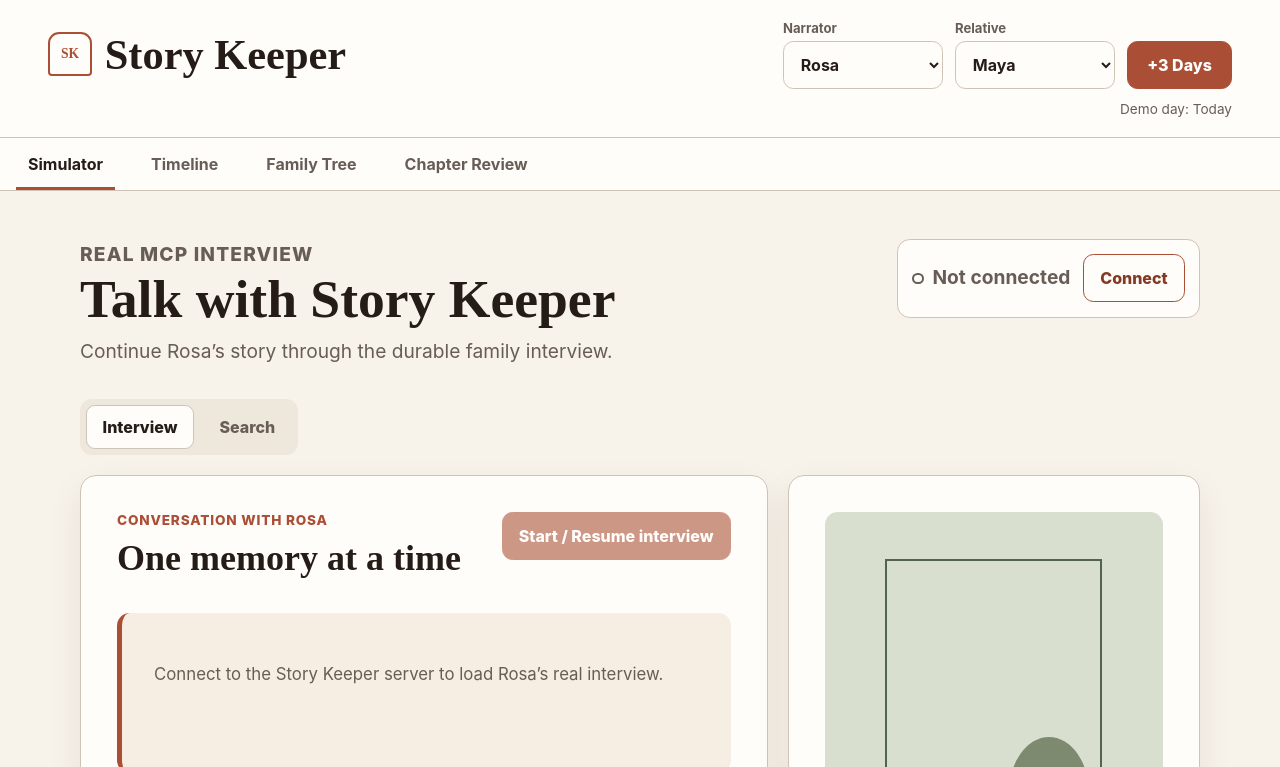
Test case: SimulatorApp › refreshes and explains a stale conflicting resolution without claiming success
Click the button "Connect" at (1134, 278), box [1083,254,1185,302]
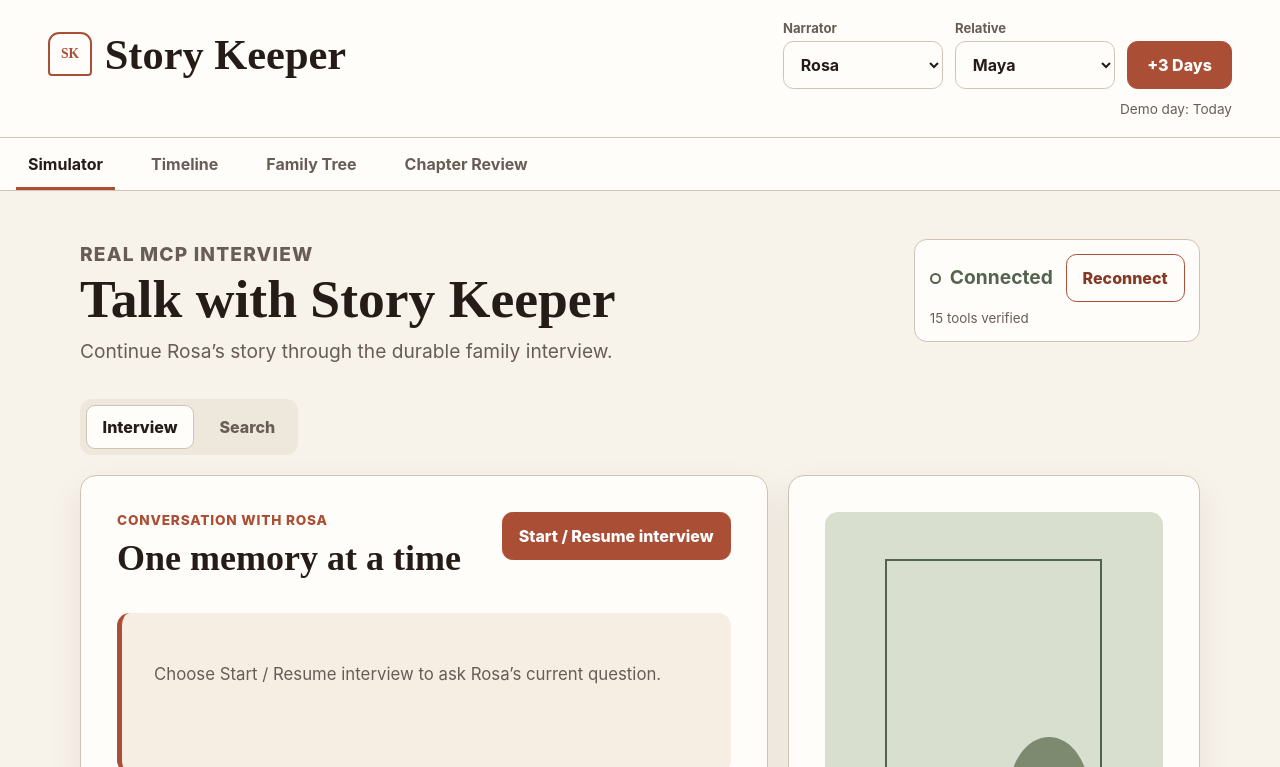
expect the text "15 tools verified" is shown: met, box [930,310,1029,326]
Click the button "Start / Resume interview" at (616, 536), box [502,512,730,560]
(page scrolled)
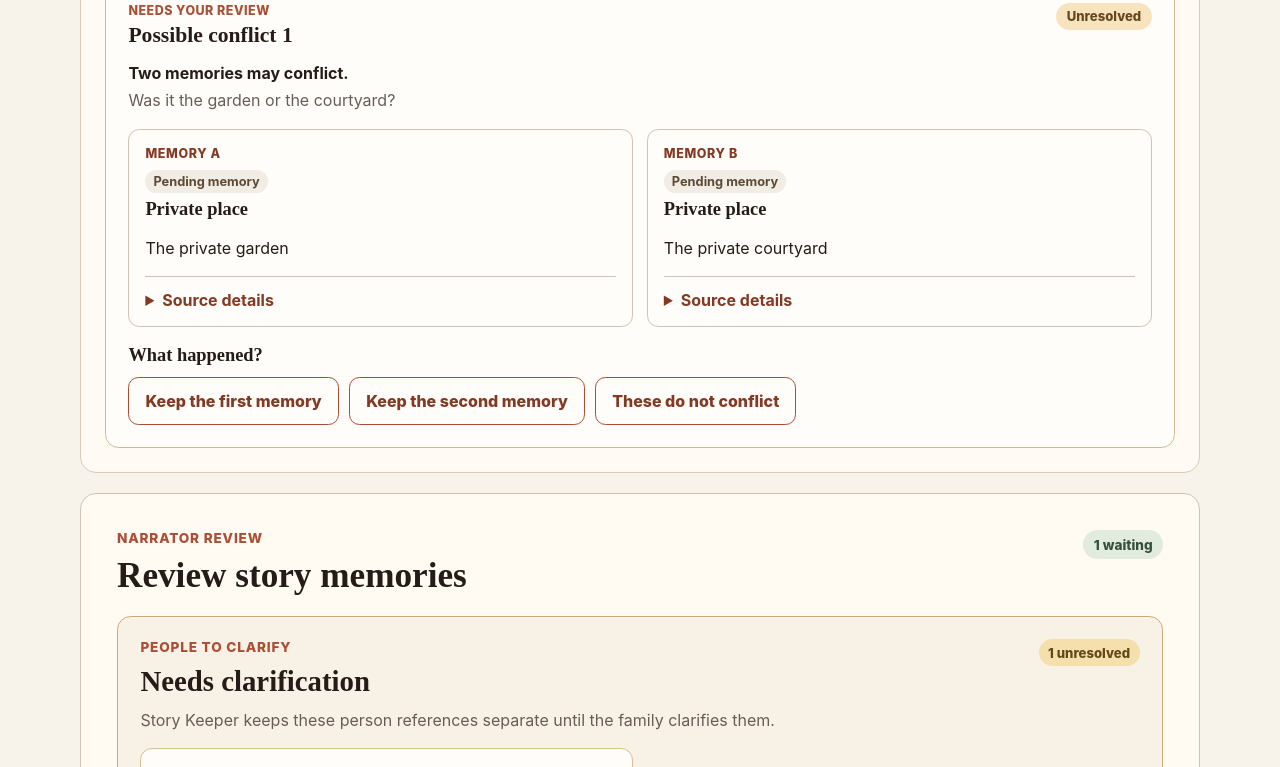
expect the heading "Possible conflict 1" is shown: met, box [128,23,293,48]
Click the button "Keep the second memory" at (467, 401), box [349,377,585,425]
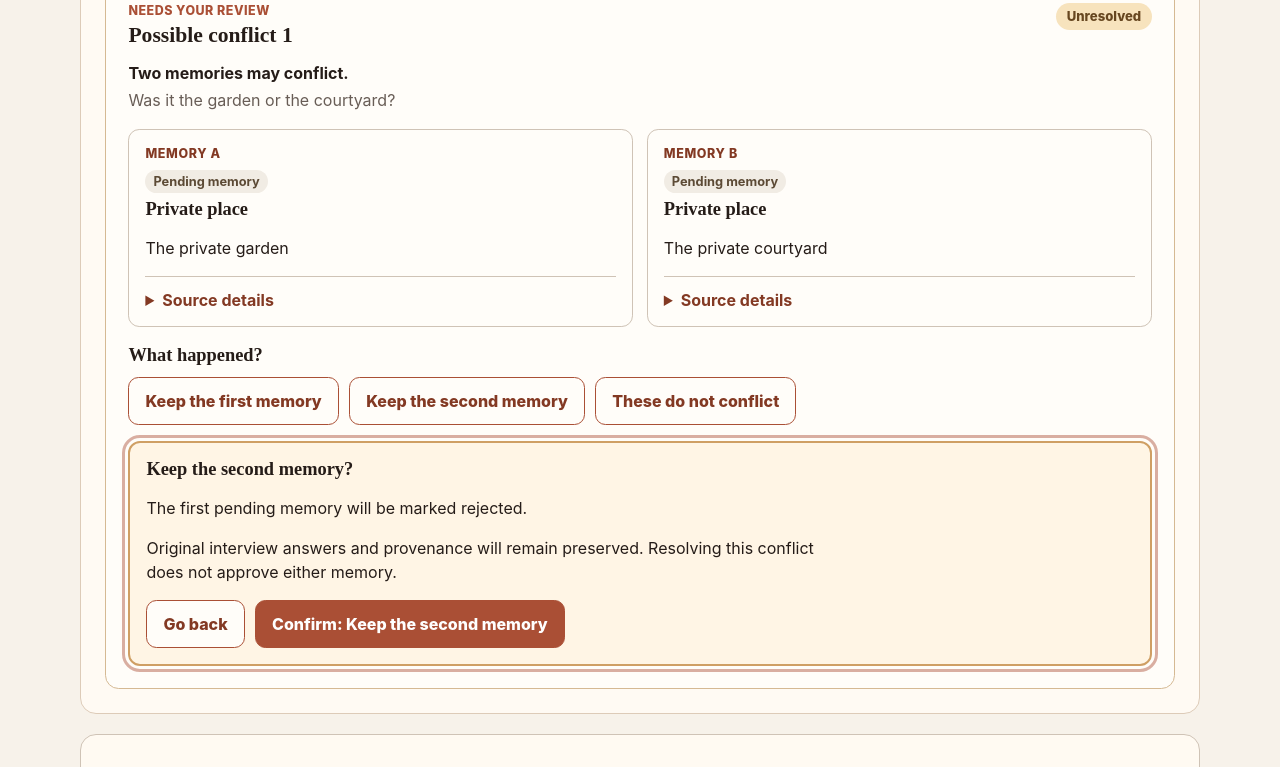
Click the button "Confirm: Keep the second memory" at (410, 624), box [255,600,565,648]
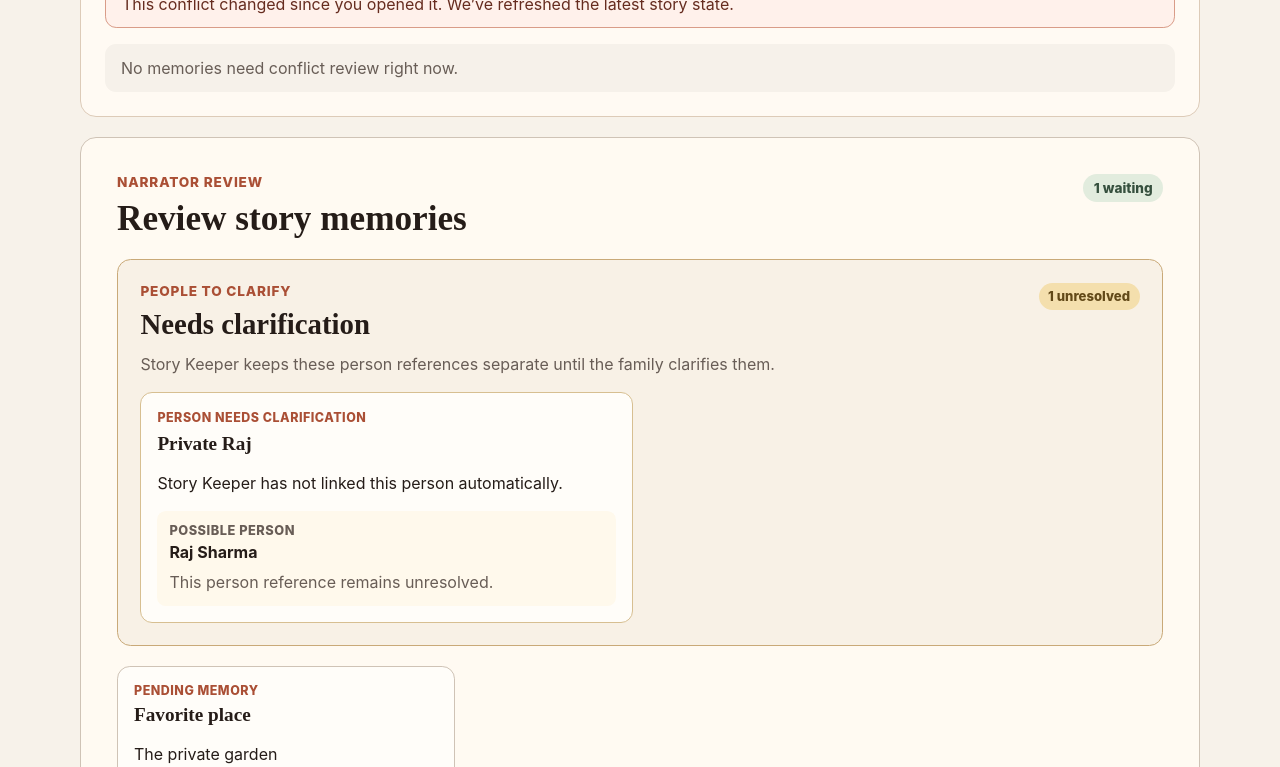
expect the text "No memories need conflict review right now." is shown: met, box [105,44,1175,92]
